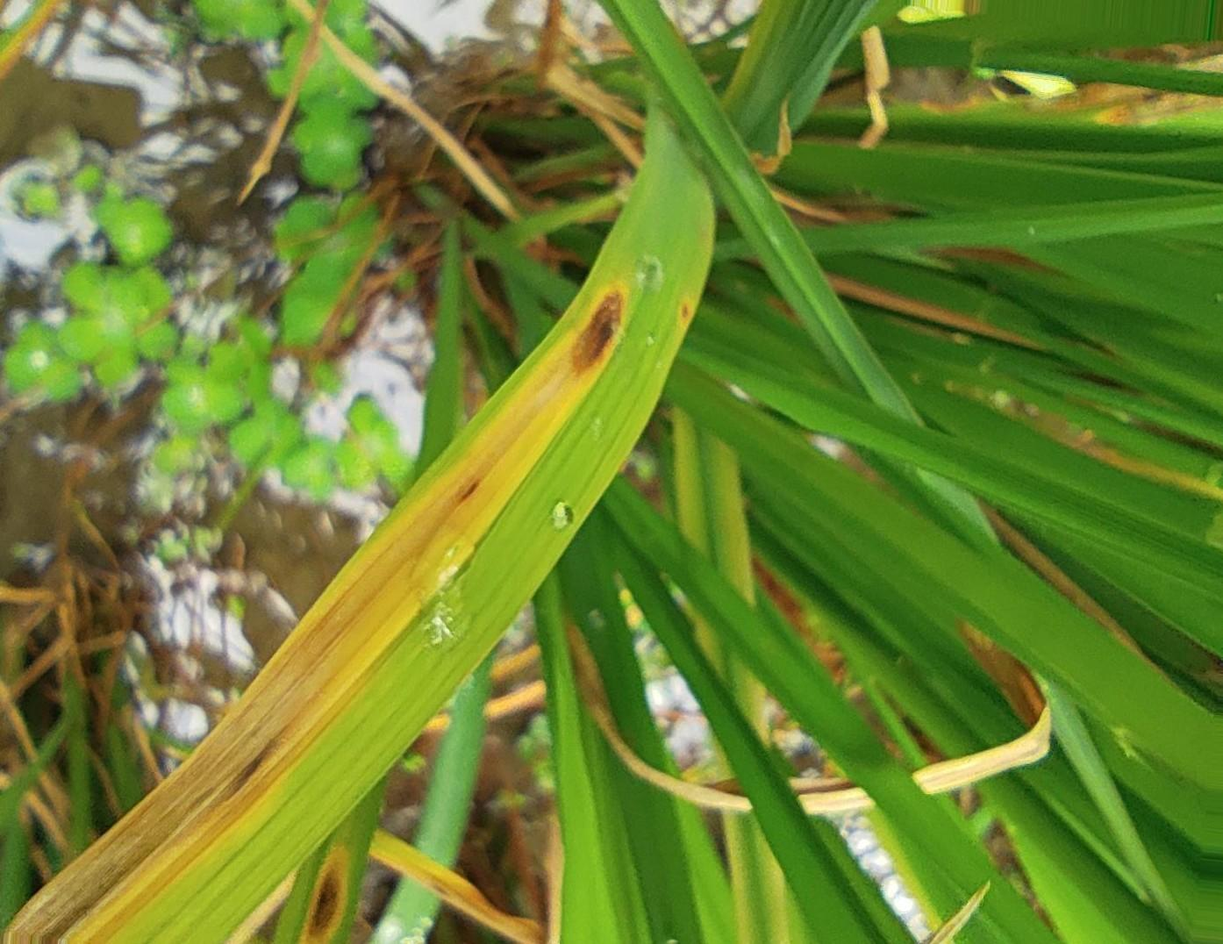LEAF: (5, 107, 714, 940)
NBS: (227, 736, 275, 801), (458, 479, 480, 505), (677, 292, 694, 324)
